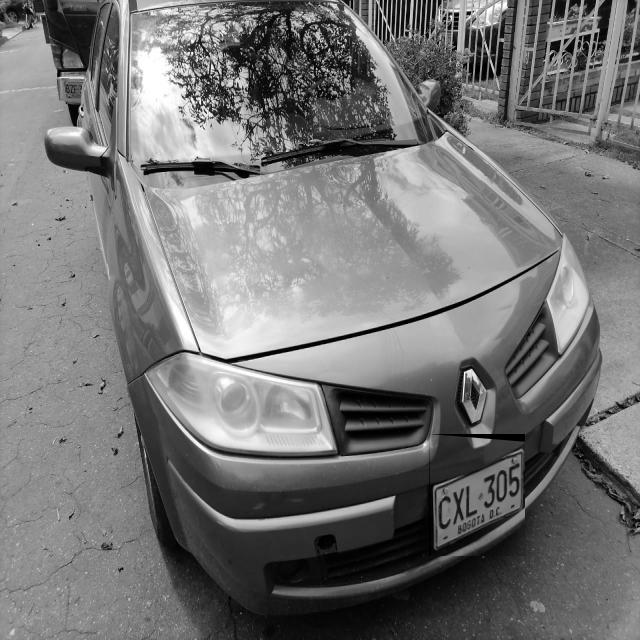plate: (430, 441, 525, 556)
